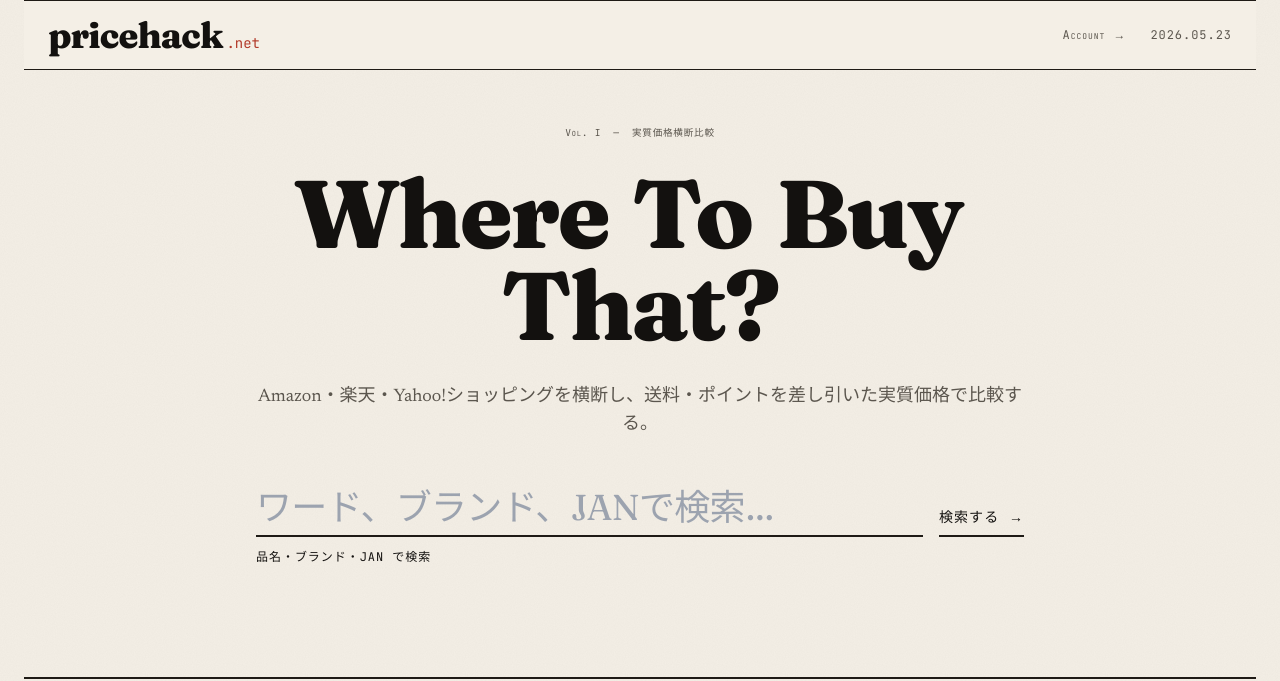
Test: HomePage（API 接続版・SWR 経由） › 検索 → ヒット 0 件: SearchResultsSection 内の EmptyState（該当記事はありません）が描画される
Type "unknown" into the search field. click: (589, 508)
box: [256, 479, 923, 537]
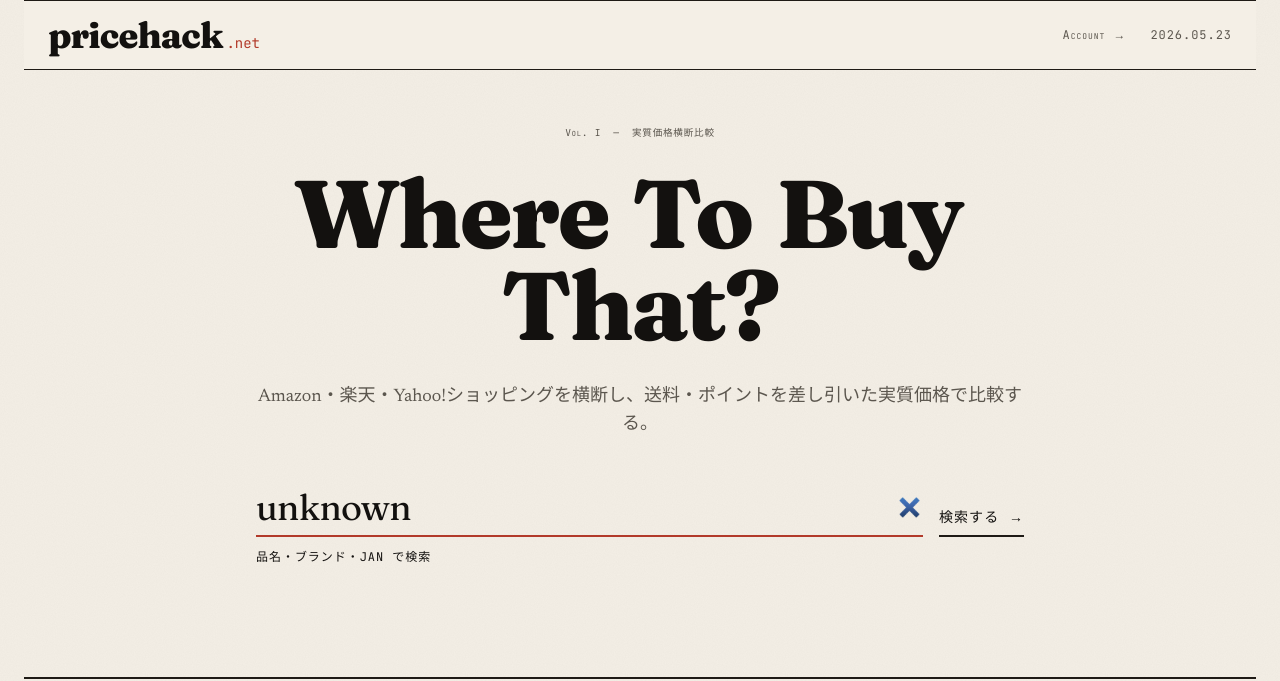
Click the button "検索する →". click: (981, 518)
box: [939, 499, 1024, 537]
(page scrolled)
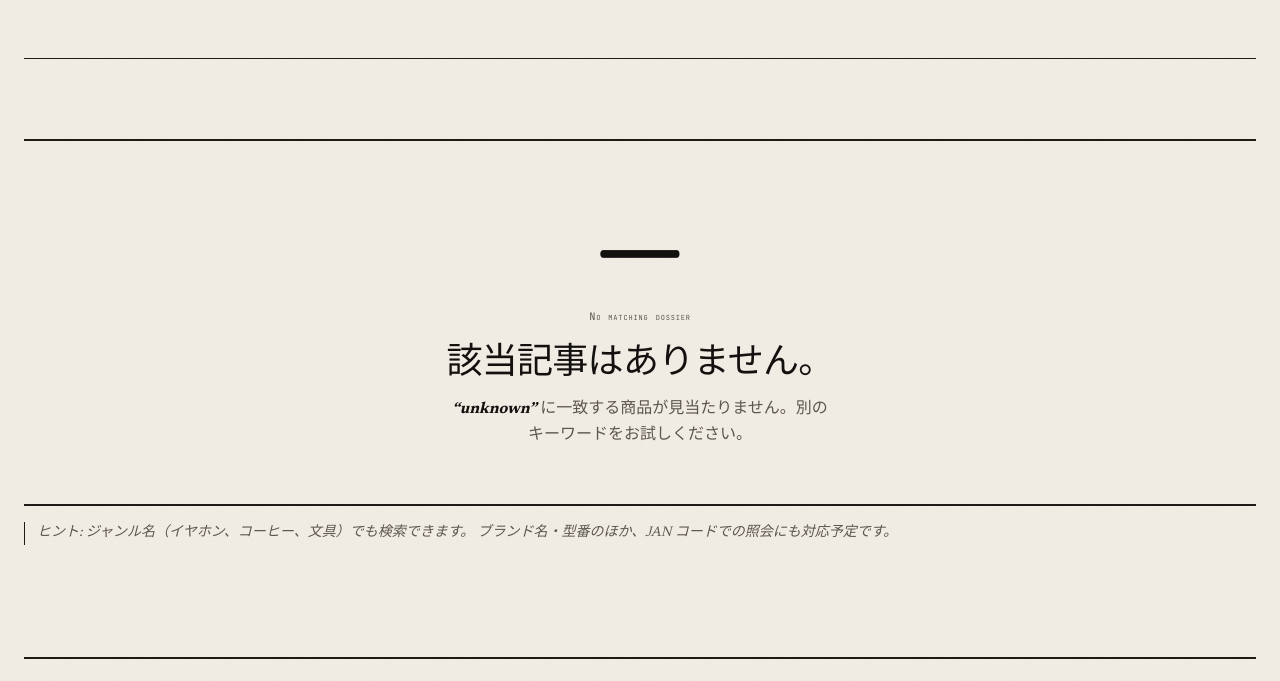
Expected: the heading "該当記事はありません。" is shown, [446, 338, 834, 382]
